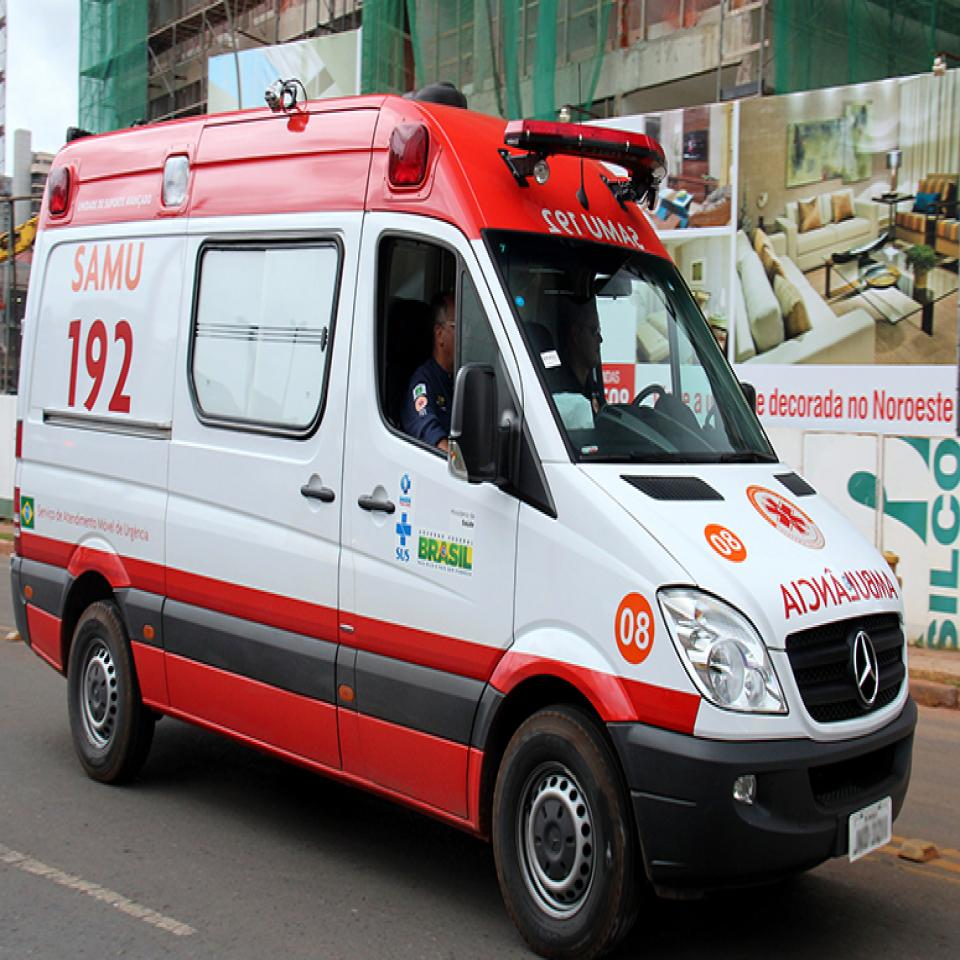bombeiro: (16, 89, 918, 960)
